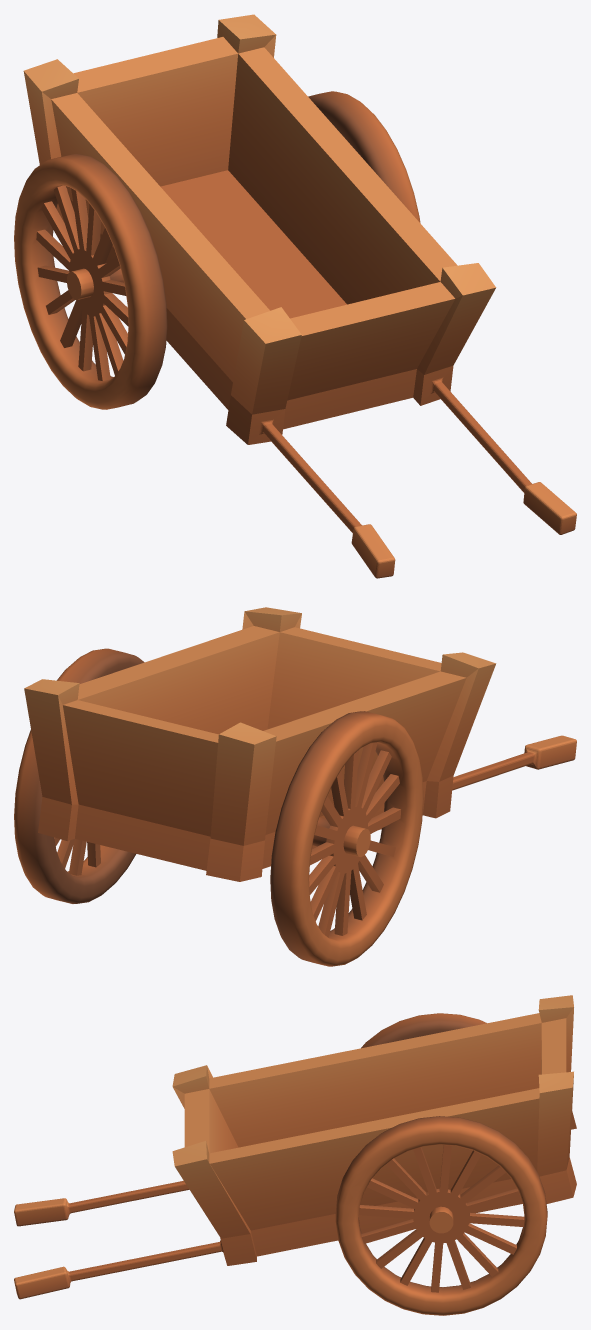
The model's file is Cart.fbx.
3 views of the same model, one above another, from view 1: azimuth 30°, elevation 25°; view 2: azimuth 150°, elevation 25°; view 3: azimuth 270°, elevation 25° (orthographic). The views are drawn at different scales.
Parts seen in each view (by area): view 1: CartBase, RightWheels, LeftWheel; view 2: CartBase, RightWheels, LeftWheel; view 3: CartBase, LeftWheel, RightWheels.
Part boxes in pixels (left/top/right/bottom): CartBase: left=23, top=14, right=576, bottom=578; RightWheels: left=14, top=154, right=167, bottom=409; LeftWheel: left=308, top=91, right=420, bottom=223; CartBase: left=24, top=607, right=576, bottom=881; RightWheels: left=270, top=711, right=423, bottom=966; LeftWheel: left=14, top=648, right=144, bottom=903; CartBase: left=14, top=995, right=576, bottom=1299; LeftWheel: left=335, top=1116, right=547, bottom=1315; RightWheels: left=361, top=1013, right=486, bottom=1048.
Bounding box in the file's own units: 0.6097 × 0.5407 × 1.25.
